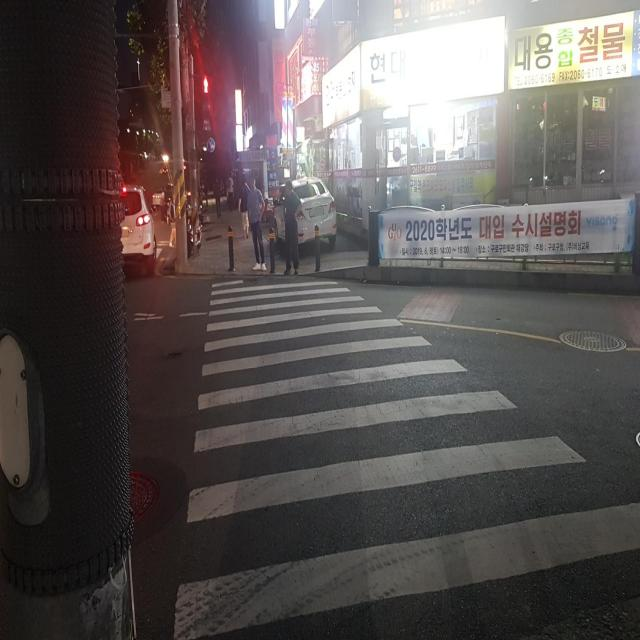빨간불: (198, 73, 213, 137)
횡단보도: (170, 268, 640, 640)
